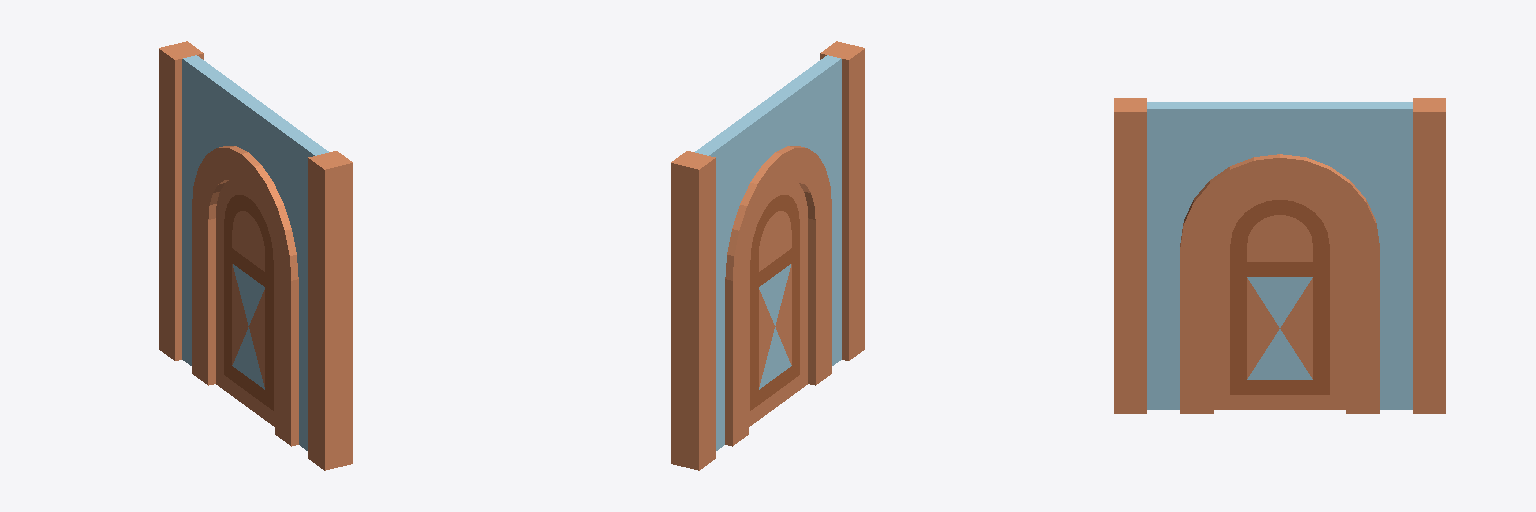
Rendered from wallDoor.obj.
3 renders of one model, left to right at view 1: azimuth 30°, elevation 25°; view 2: azimuth 150°, elevation 25°; view 3: azimuth 270°, elevation 25°, orthographic.
Parts seen in each view (by area): view 1: wallDoor, door; view 2: wallDoor, door; view 3: wallDoor, door.
Boxes of the visible parts, x1=… form: wallDoor: x1=159, y1=41, x2=352, y2=470; door: x1=216, y1=180, x2=274, y2=426; wallDoor: x1=671, y1=41, x2=864, y2=470; door: x1=749, y1=180, x2=807, y2=426; wallDoor: x1=1114, y1=98, x2=1445, y2=413; door: x1=1214, y1=188, x2=1345, y2=409.
Size of the model in its own units: 0.1 by 1 by 1.